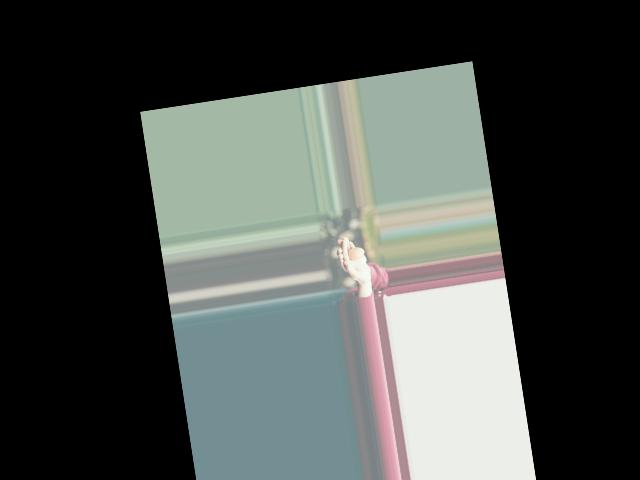egg: (347, 246, 365, 261)
